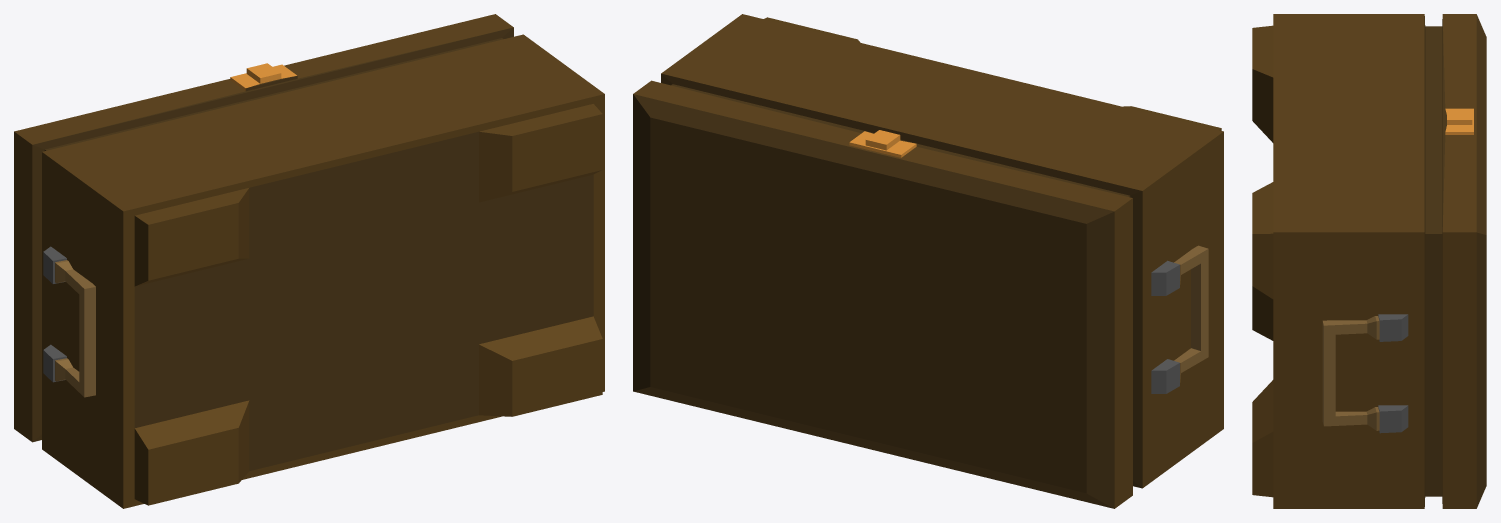
The model's file is Chest_Mod.fbx.
The picture shows the model from 3 angles, left to right: view 1: azimuth 30°, elevation 25°; view 2: azimuth 150°, elevation 25°; view 3: azimuth 270°, elevation 25°; orthographic projection. The views are drawn at different scales.
Visible parts, largest first — view 1: Chest; view 2: Chest; view 3: Chest.
Part boxes in pixels (bbox=[...]): Chest: bbox=[14, 14, 604, 508]; Chest: bbox=[633, 14, 1223, 508]; Chest: bbox=[1252, 14, 1486, 508].
Bounding box in the file's own units: 6.36 × 3.66 × 2.74.
